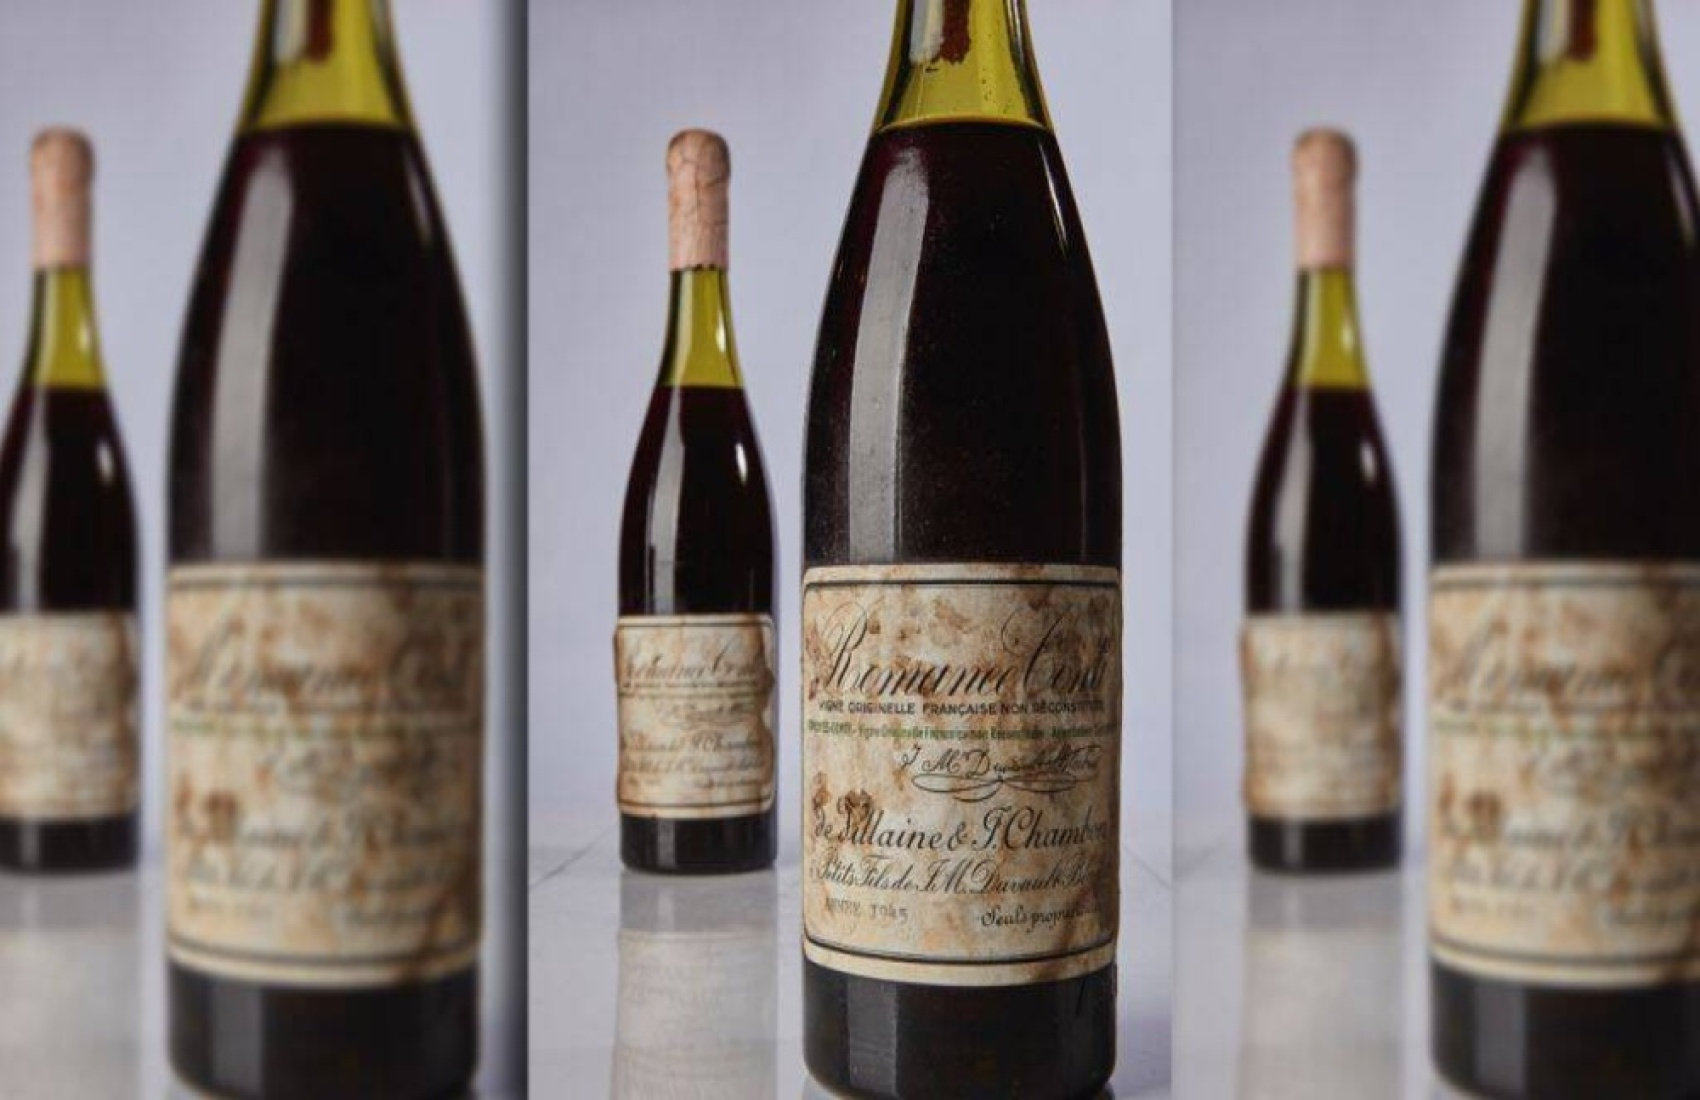wine: (185, 14, 493, 1100), (804, 14, 1111, 1100), (1444, 14, 1700, 1099), (631, 140, 768, 858)
